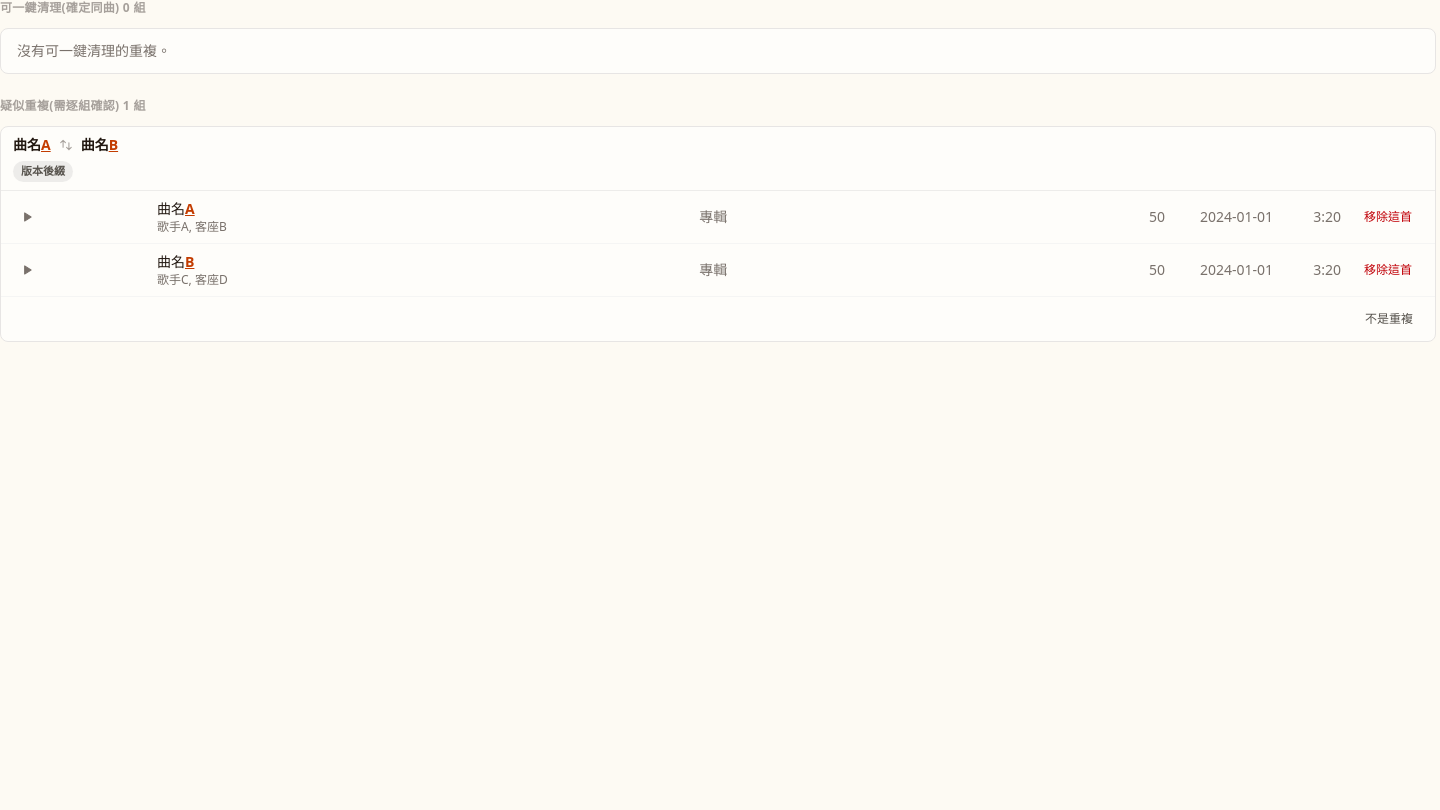
CleanupView 失敗回饋（mutation onError 不誤報成功） › test_onError_移除失敗顯錯不誤報（S3）
The image size is (1440, 810).
Click the button "移除這首" in the row of "歌手A, 客座B". click: [1388, 216]
box: [1353,202,1423,230]
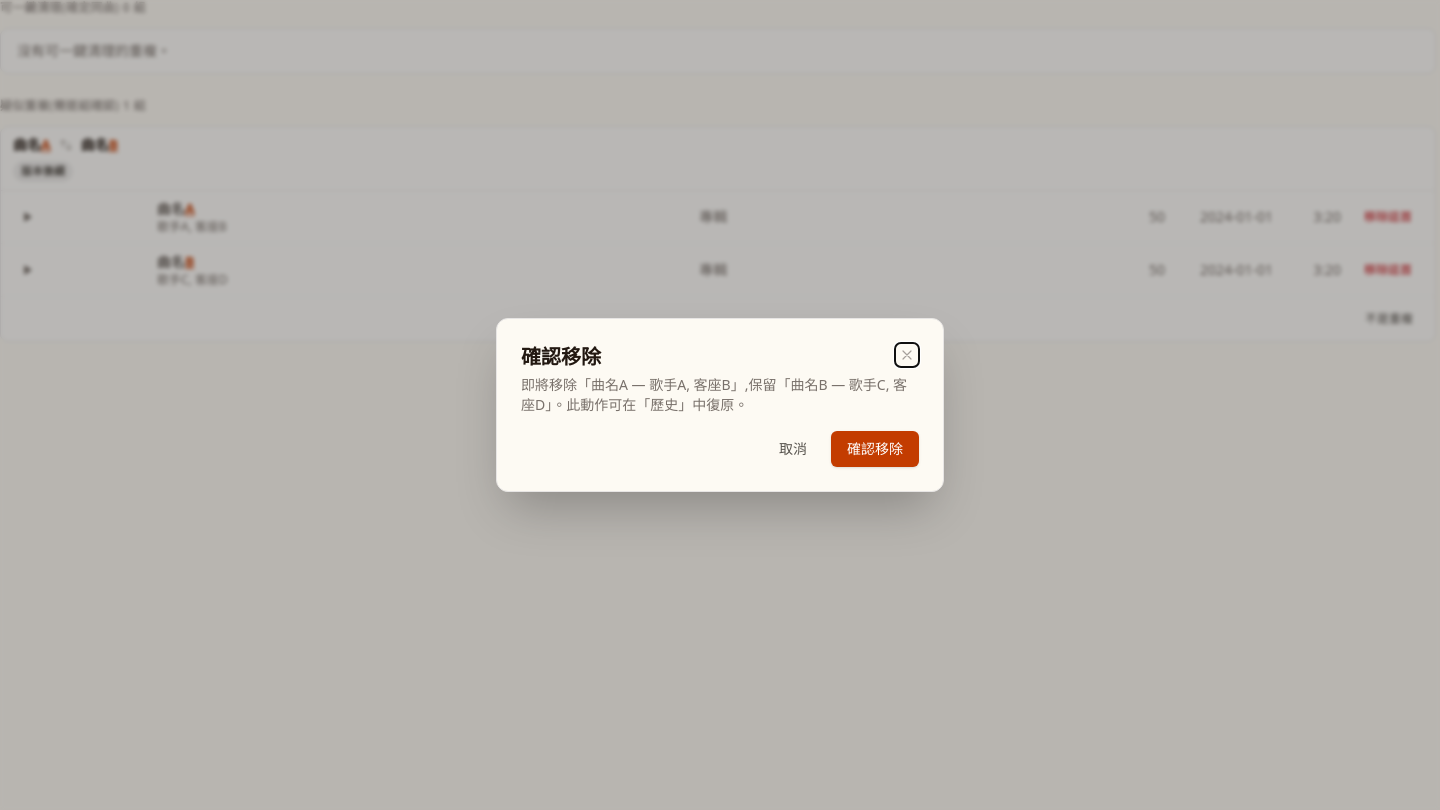
Click the button "確認移除". click: [875, 449]
box: [831,431,919,467]
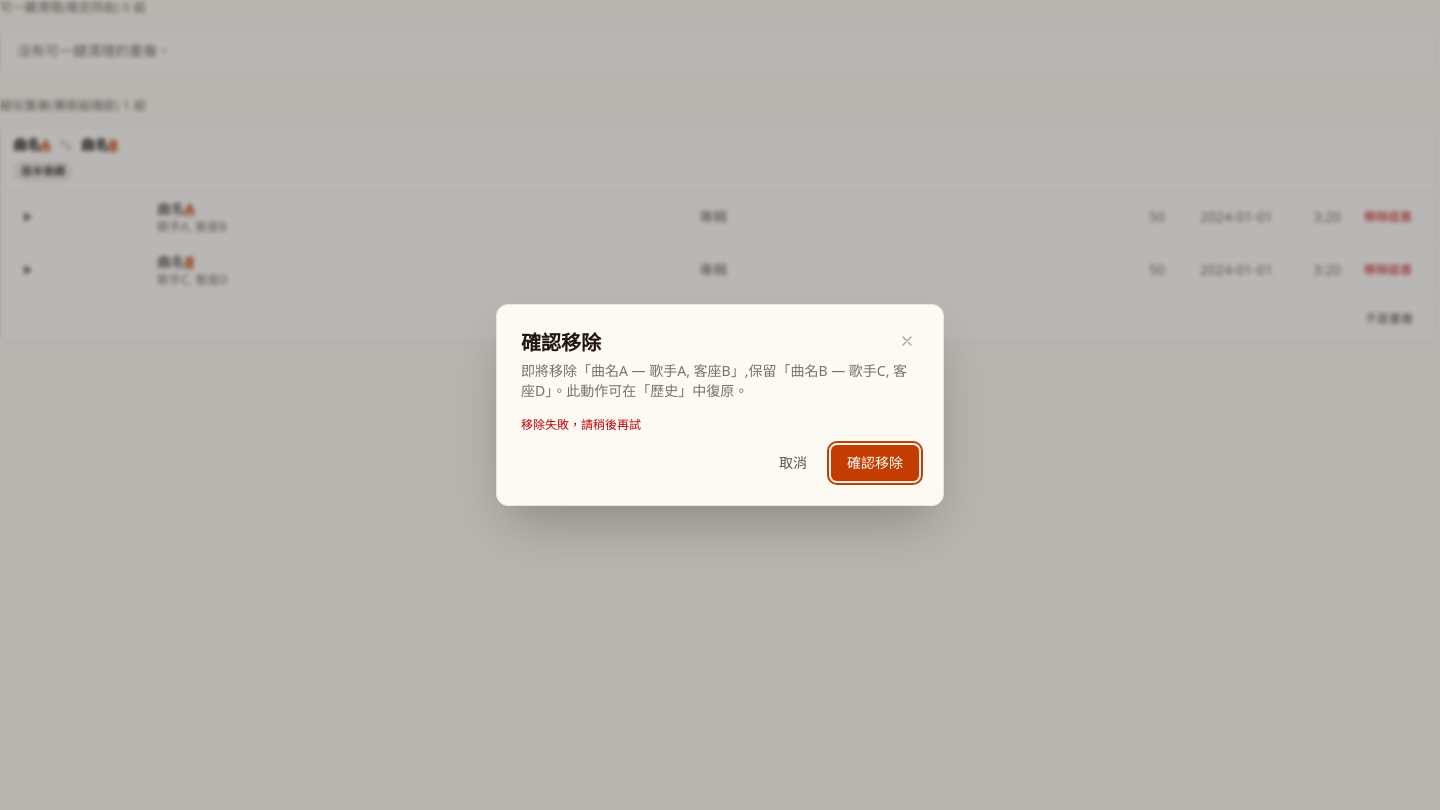
Now the dialog is shown, box [496,304,944,506]
Now the message shows "失敗", box [521,416,641,433]
